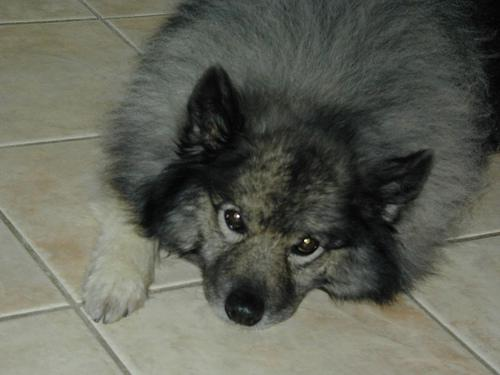dog-keeshond: (179, 62, 433, 330)
